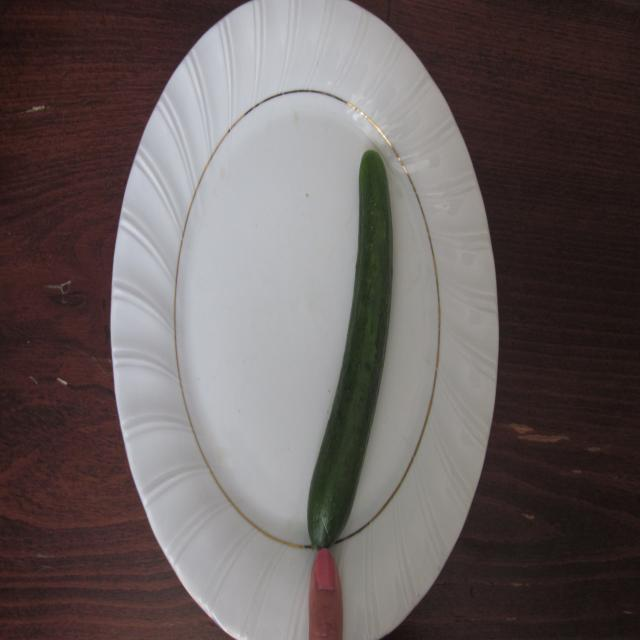cucumber: (304, 128, 402, 550)
